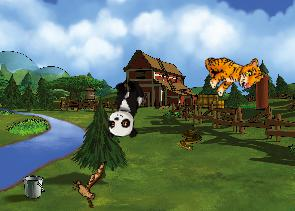eagle: (71, 161, 107, 208)
panda: (105, 77, 145, 140)
tiger: (199, 40, 266, 103)
